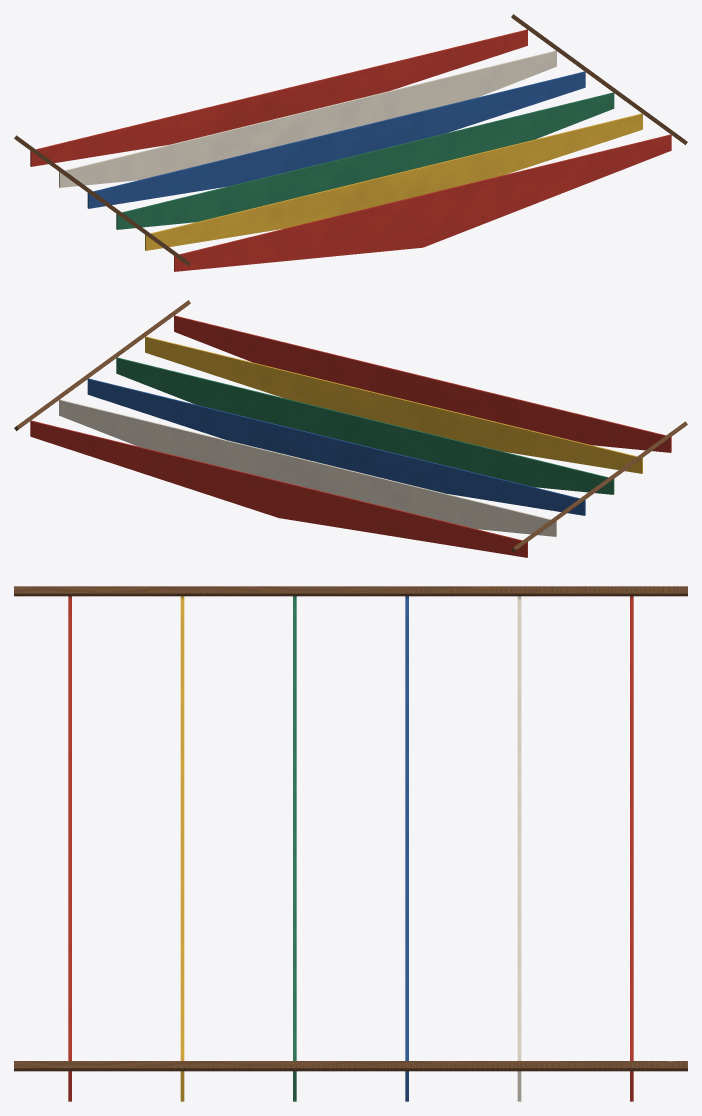
Rendered from markis_tex.glb.
3 views of the same model, one above another, from view 1: azimuth 30°, elevation 25°; view 2: azimuth 150°, elevation 25°; view 3: azimuth 270°, elevation 25° (orthographic). The views are drawn at different scales.
Parts seen in each view (by area): view 1: markis; view 2: markis; view 3: markis.
Part boxes in pixels (<box>): markis: <box>14,14,687,271</box>; markis: <box>14,300,687,557</box>; markis: <box>14,586,687,1101</box>.
Size of the model in its own units: 10.1 by 1.1 by 6.
6 materials, 6 textured.
